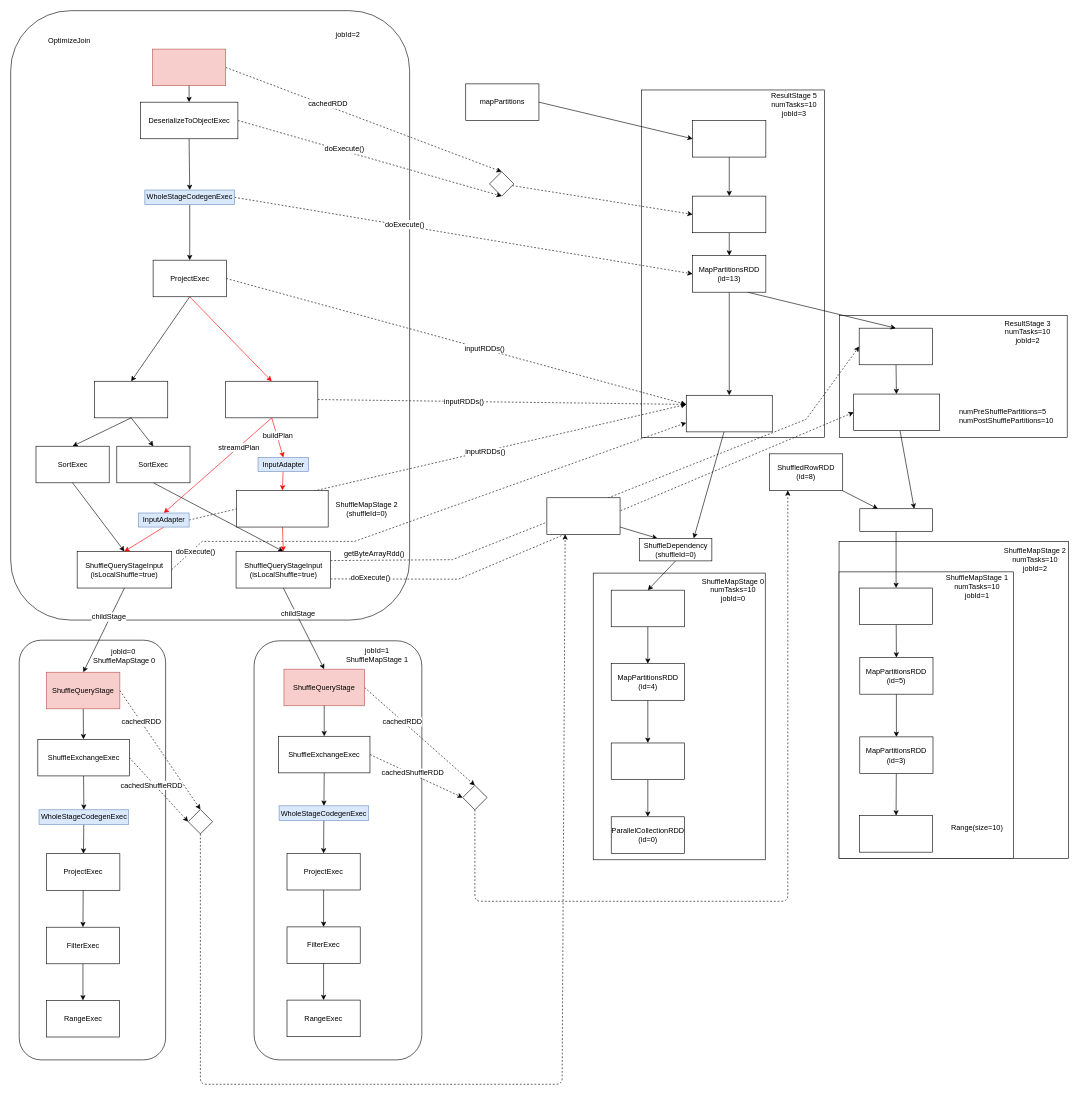
Some shapes in this 1085 by 1100 pixel diagram are drawn without their labels. Each missing label, with the centre of its shape:
BroadcastExchangeExec: point 282,508
BroadcastHashJoinExec (buildSide=BuildRight): point 271,399
LocalShuffledRowRDD (id=10): point 896,412
LocalShuffledRowRDD (id=12): point 729,413
MapPartitionsRDD (id=11): point 895,346
MapPartitionsRDD (id=14): point 729,214
MapPartitionsRDD (id=15): point 729,138
MapPartitionsRDD (id=2): point 647,761
MapPartitionsRDD (id=6): point 647,608
MapPartitionsRDD (id=7): point 896,606
ParallelCollectionRDD (id=1): point 896,833
ResultQueryStage: point 189,67
ShuffleDependency (shuffledId=1): point 895,519
ShuffledRowRDD (id=9): point 583,515
SortMergeJoinExec: point 131,399
